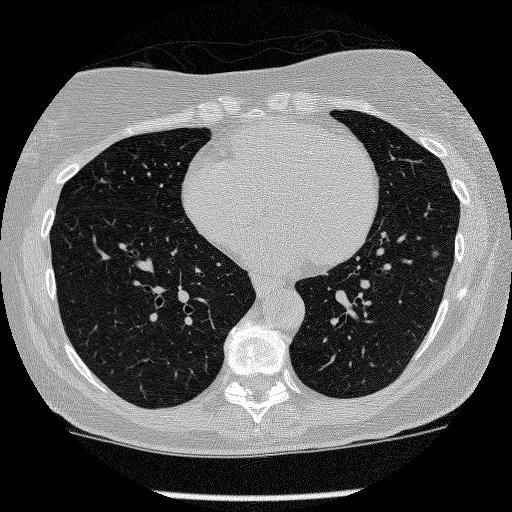nodule: (428, 247, 441, 260)
